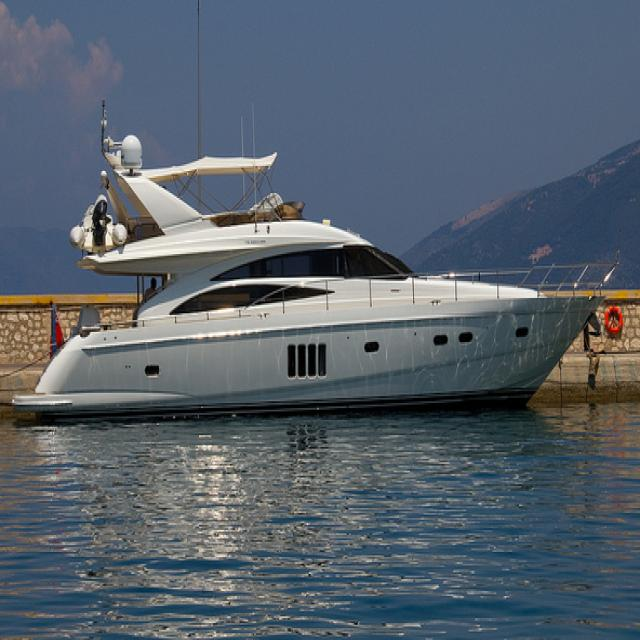houseboat: (9, 95, 622, 443)
